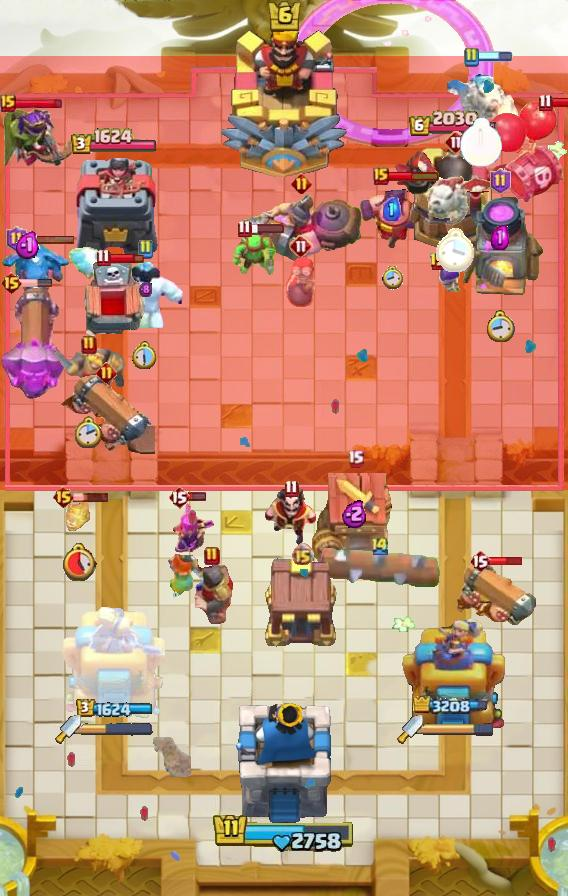bar: (60, 607, 168, 731), (402, 615, 507, 731)
barbarian-hut: (0, 105, 84, 177)
bat: (67, 245, 105, 283)
battle-healer: (57, 373, 155, 455), (456, 557, 536, 629)
bomb: (262, 555, 342, 649)
clock: (212, 812, 356, 854)
electro-spirit: (15, 232, 41, 261), (342, 500, 368, 529), (491, 225, 509, 251), (383, 197, 401, 221), (139, 282, 152, 299)
elixir: (459, 116, 503, 168), (436, 226, 477, 272), (59, 542, 97, 581), (75, 416, 103, 450), (486, 310, 515, 342), (132, 341, 158, 370), (382, 266, 403, 290)
elixir-golem-mid: (78, 259, 148, 345)
emote: (12, 97, 63, 110), (387, 170, 440, 182), (24, 234, 76, 245), (74, 491, 111, 503), (477, 50, 513, 62), (249, 222, 285, 234), (108, 252, 144, 264), (488, 555, 524, 567), (17, 278, 53, 288), (550, 96, 568, 108), (189, 490, 208, 501)
evolution-symbol: (168, 501, 218, 571)
firecracker: (52, 346, 126, 406), (190, 555, 233, 624)
fisherman: (153, 737, 191, 777)
furnace: (0, 284, 68, 404)
giant-snowball: (231, 228, 279, 278)
goblin: (433, 261, 463, 301)
graveyard: (0, 238, 72, 300)
hog-rider: (162, 549, 200, 601)
hunter: (455, 191, 545, 299)
ice-golem: (284, 252, 318, 308)
ice-spirit-evolution: (62, 497, 94, 533)
king-tower: (219, 23, 349, 181), (235, 703, 333, 826)
king-tower-bar: (423, 722, 495, 736), (81, 722, 153, 736)
knight-evolution: (287, 0, 494, 147)
lumberjack: (263, 488, 319, 548)
mini-pekka: (416, 151, 496, 225), (444, 60, 518, 124)
minion: (318, 547, 442, 587)
monk: (359, 173, 425, 251)
queen-tower: (68, 158, 159, 256)
rage: (105, 262, 185, 328)
royal-recruit-evolution: (486, 100, 568, 206)
selected: (408, 110, 498, 138), (70, 128, 158, 156), (413, 695, 493, 716), (75, 698, 152, 718)
sparky: (312, 472, 398, 570)
text: (444, 130, 468, 154), (289, 234, 313, 258), (5, 226, 27, 252), (1, 271, 24, 295), (52, 485, 75, 509), (490, 168, 511, 194), (290, 543, 313, 566), (168, 485, 190, 509), (469, 549, 491, 573), (291, 173, 312, 195), (96, 362, 117, 383), (370, 535, 390, 557), (429, 252, 447, 272), (348, 449, 365, 468), (463, 47, 479, 67), (137, 239, 153, 259), (81, 335, 97, 355), (204, 546, 220, 566), (0, 94, 16, 112), (373, 167, 389, 185), (539, 92, 554, 111), (236, 218, 251, 237), (97, 248, 112, 267), (285, 479, 300, 497)
tower-bar: (392, 138, 514, 256)
wizard: (238, 190, 364, 264)
